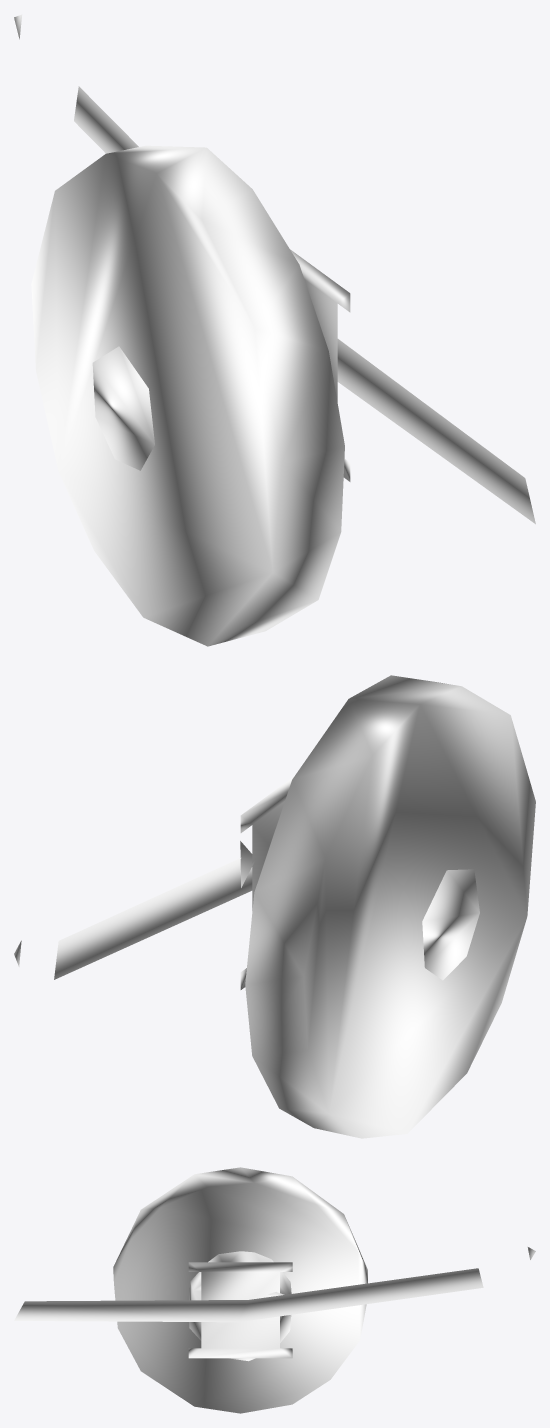
3 views of the same model, one above another, from view 1: azimuth 30°, elevation 25°; view 2: azimuth 150°, elevation 25°; view 3: azimuth 270°, elevation 25° (orthographic). The views are drawn at different scales.
Bounding box in the file's own units: 0.1545 × 0.3344 × 0.6851.
1 material, 1 textured.
